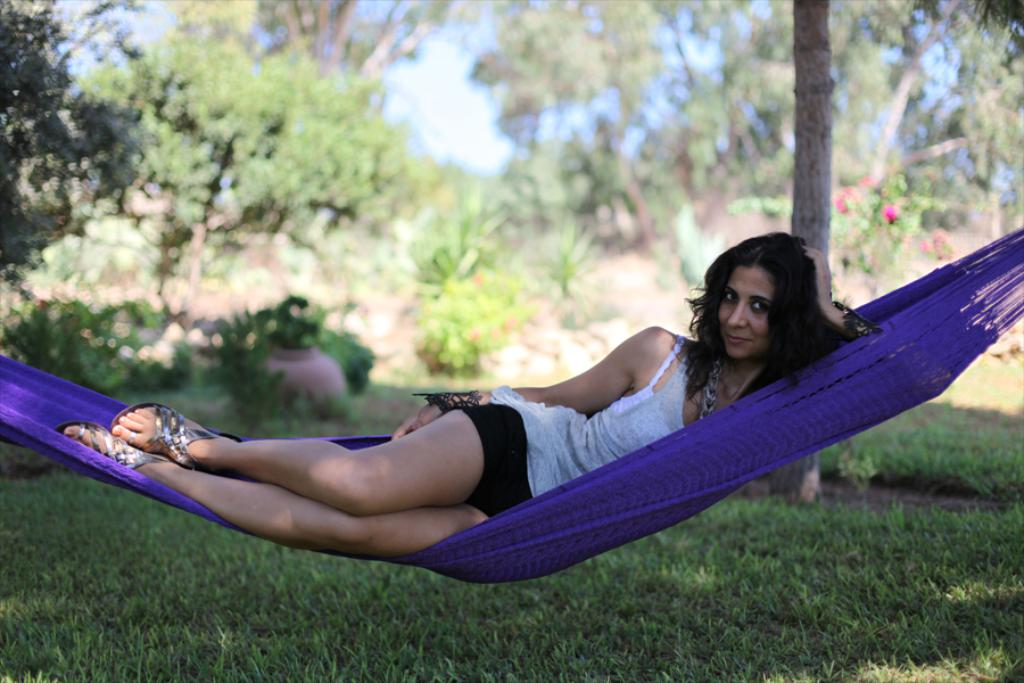Tree: (0, 0, 1024, 506)
